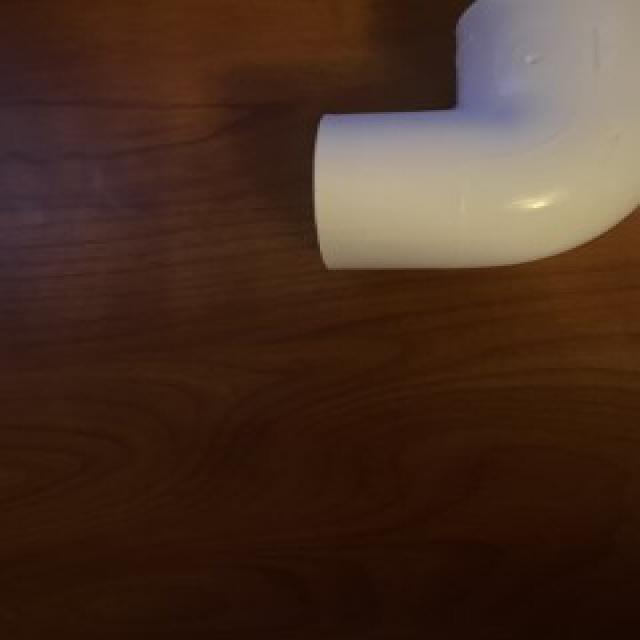L Joint: (314, 0, 640, 274)
